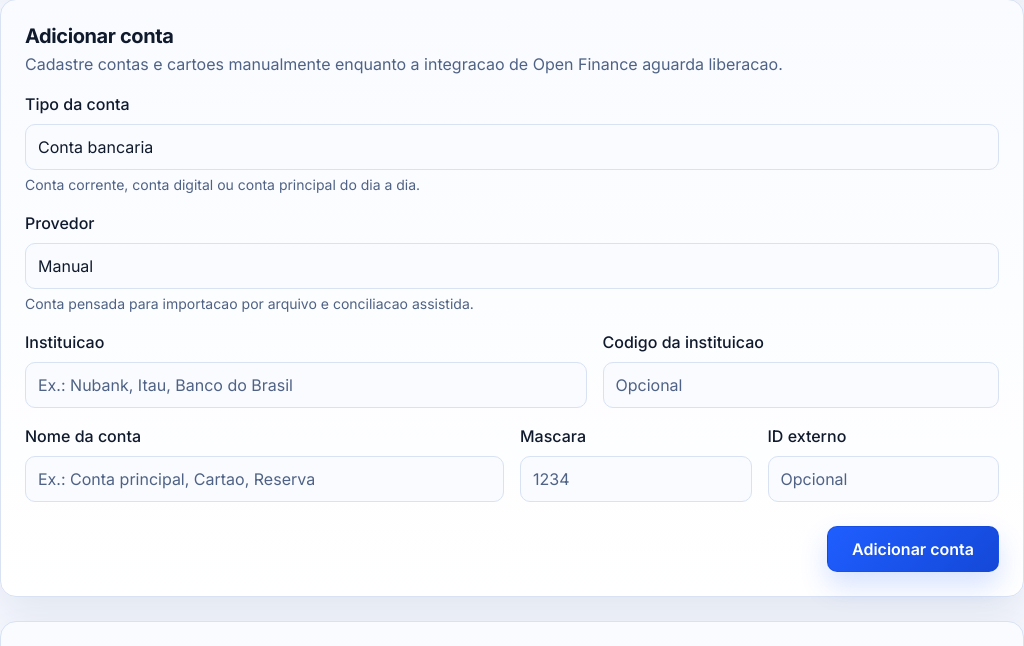
Test: FinancialAccounts page › creates a new manual financial account
(page scrolled)
In the field labelled "Instituicao": (306, 385) [25,362,586,408], type "Banco Inter"
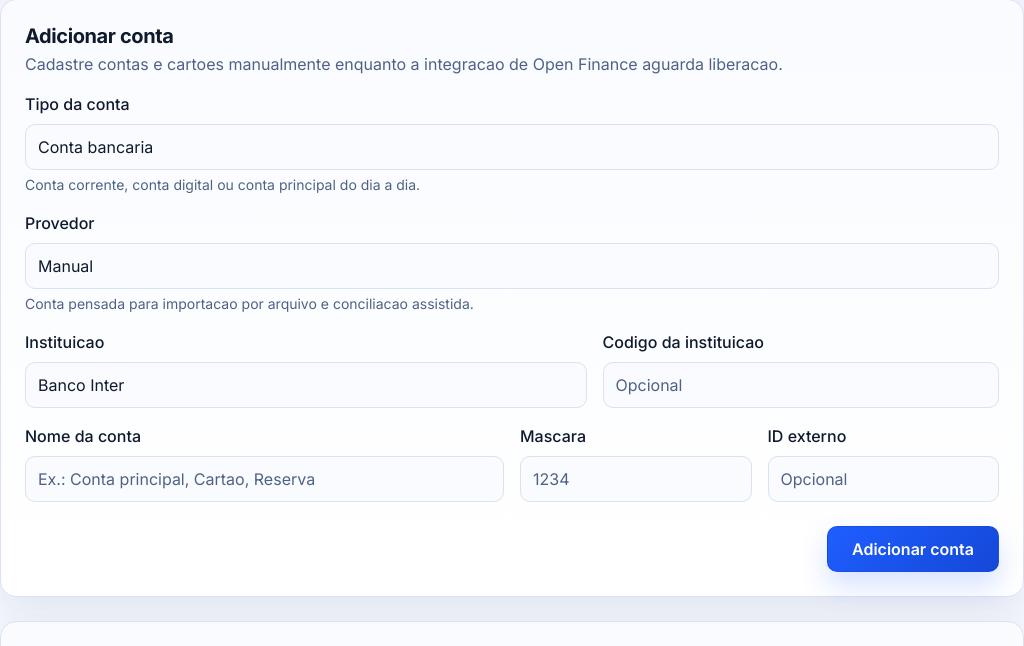
In the field labelled "Nome da conta": (264, 479) [25,456,504,502], type "Reserva"
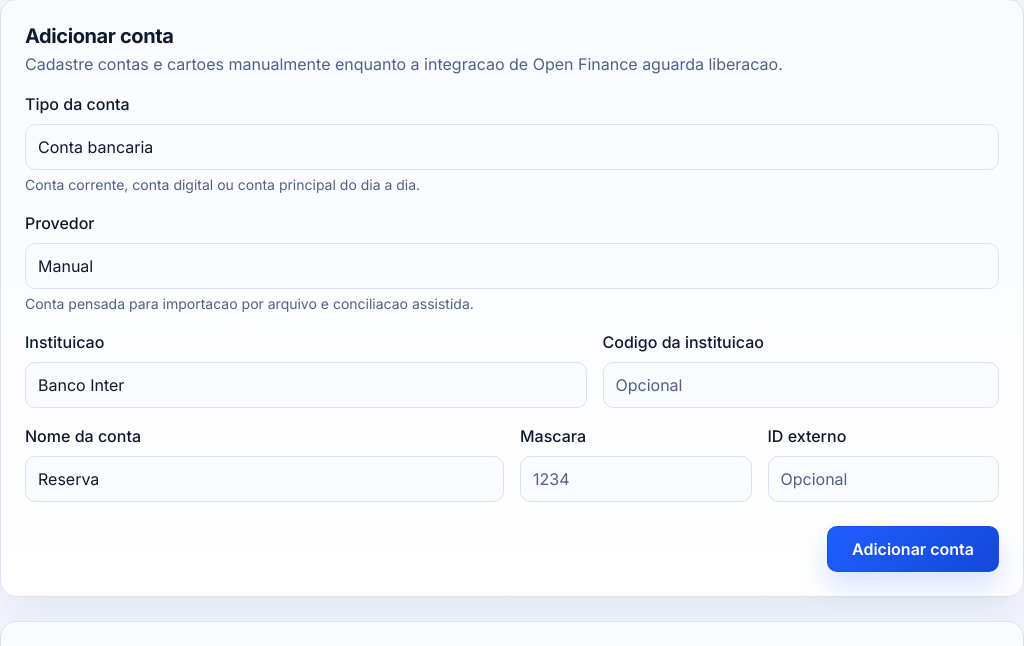
In the field labelled "Mascara": (636, 479) [520,456,752,502], type "4321"
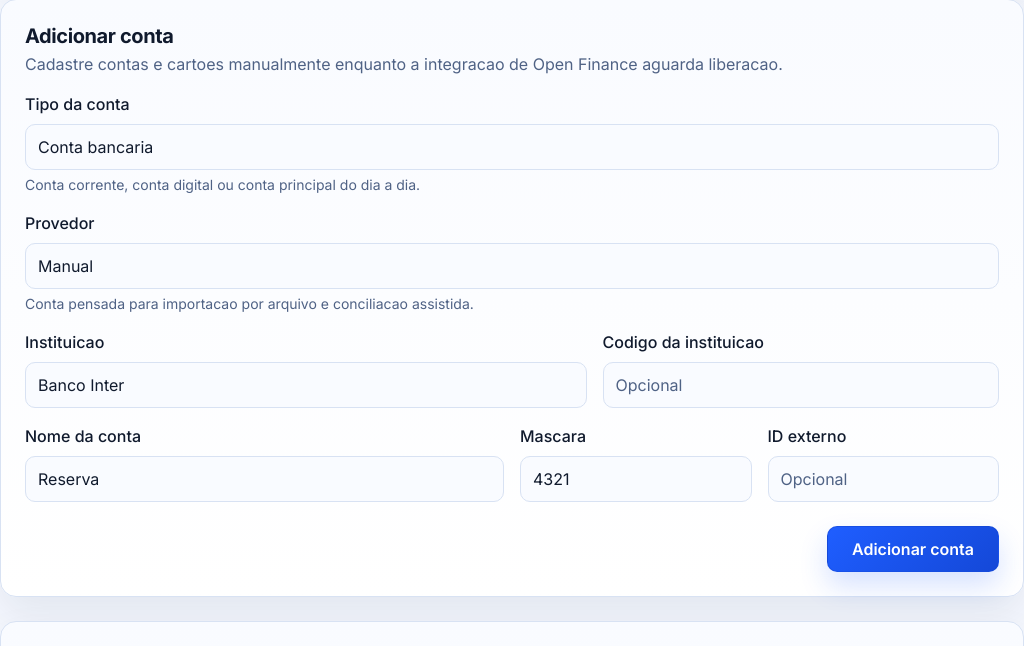
Click the button "Adicionar conta": (913, 549) [827,526,999,572]
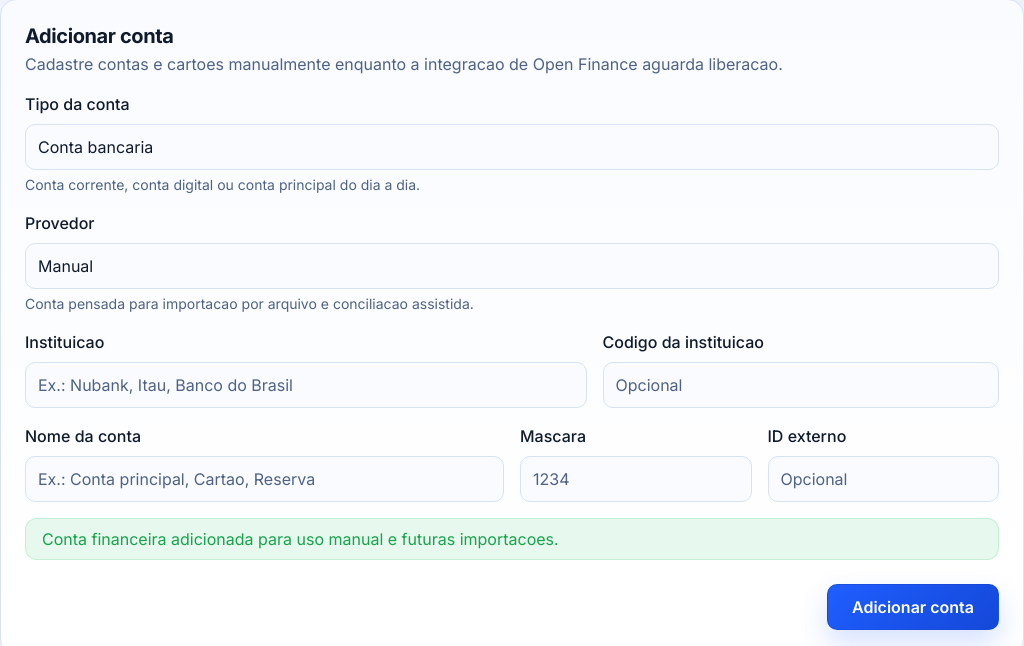
Result: the text "Conta financeira adicionada para uso manual e futuras importacoes." is shown at [25,518,999,560]
